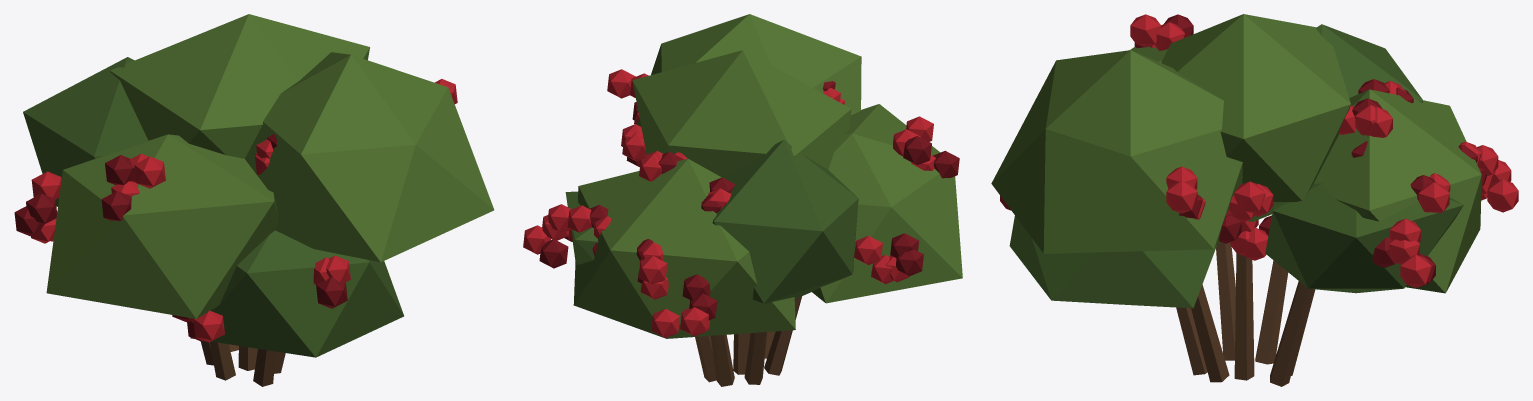
The model's file is berry_bush.glb.
3 renders of one model, left to right at view 1: azimuth 30°, elevation 25°; view 2: azimuth 150°, elevation 25°; view 3: azimuth 270°, elevation 25°, orthographic. The views are drawn at different scales.
Visible parts, largest first — view 1: berry_bush; view 2: berry_bush; view 3: berry_bush.
Boxes of the visible parts, left/top/right/bottom form: berry_bush: left=14, top=14, right=494, bottom=386; berry_bush: left=523, top=14, right=962, bottom=386; berry_bush: left=991, top=14, right=1518, bottom=386.
Size of the model in its own units: 1.08 by 0.9139 by 1.21.
